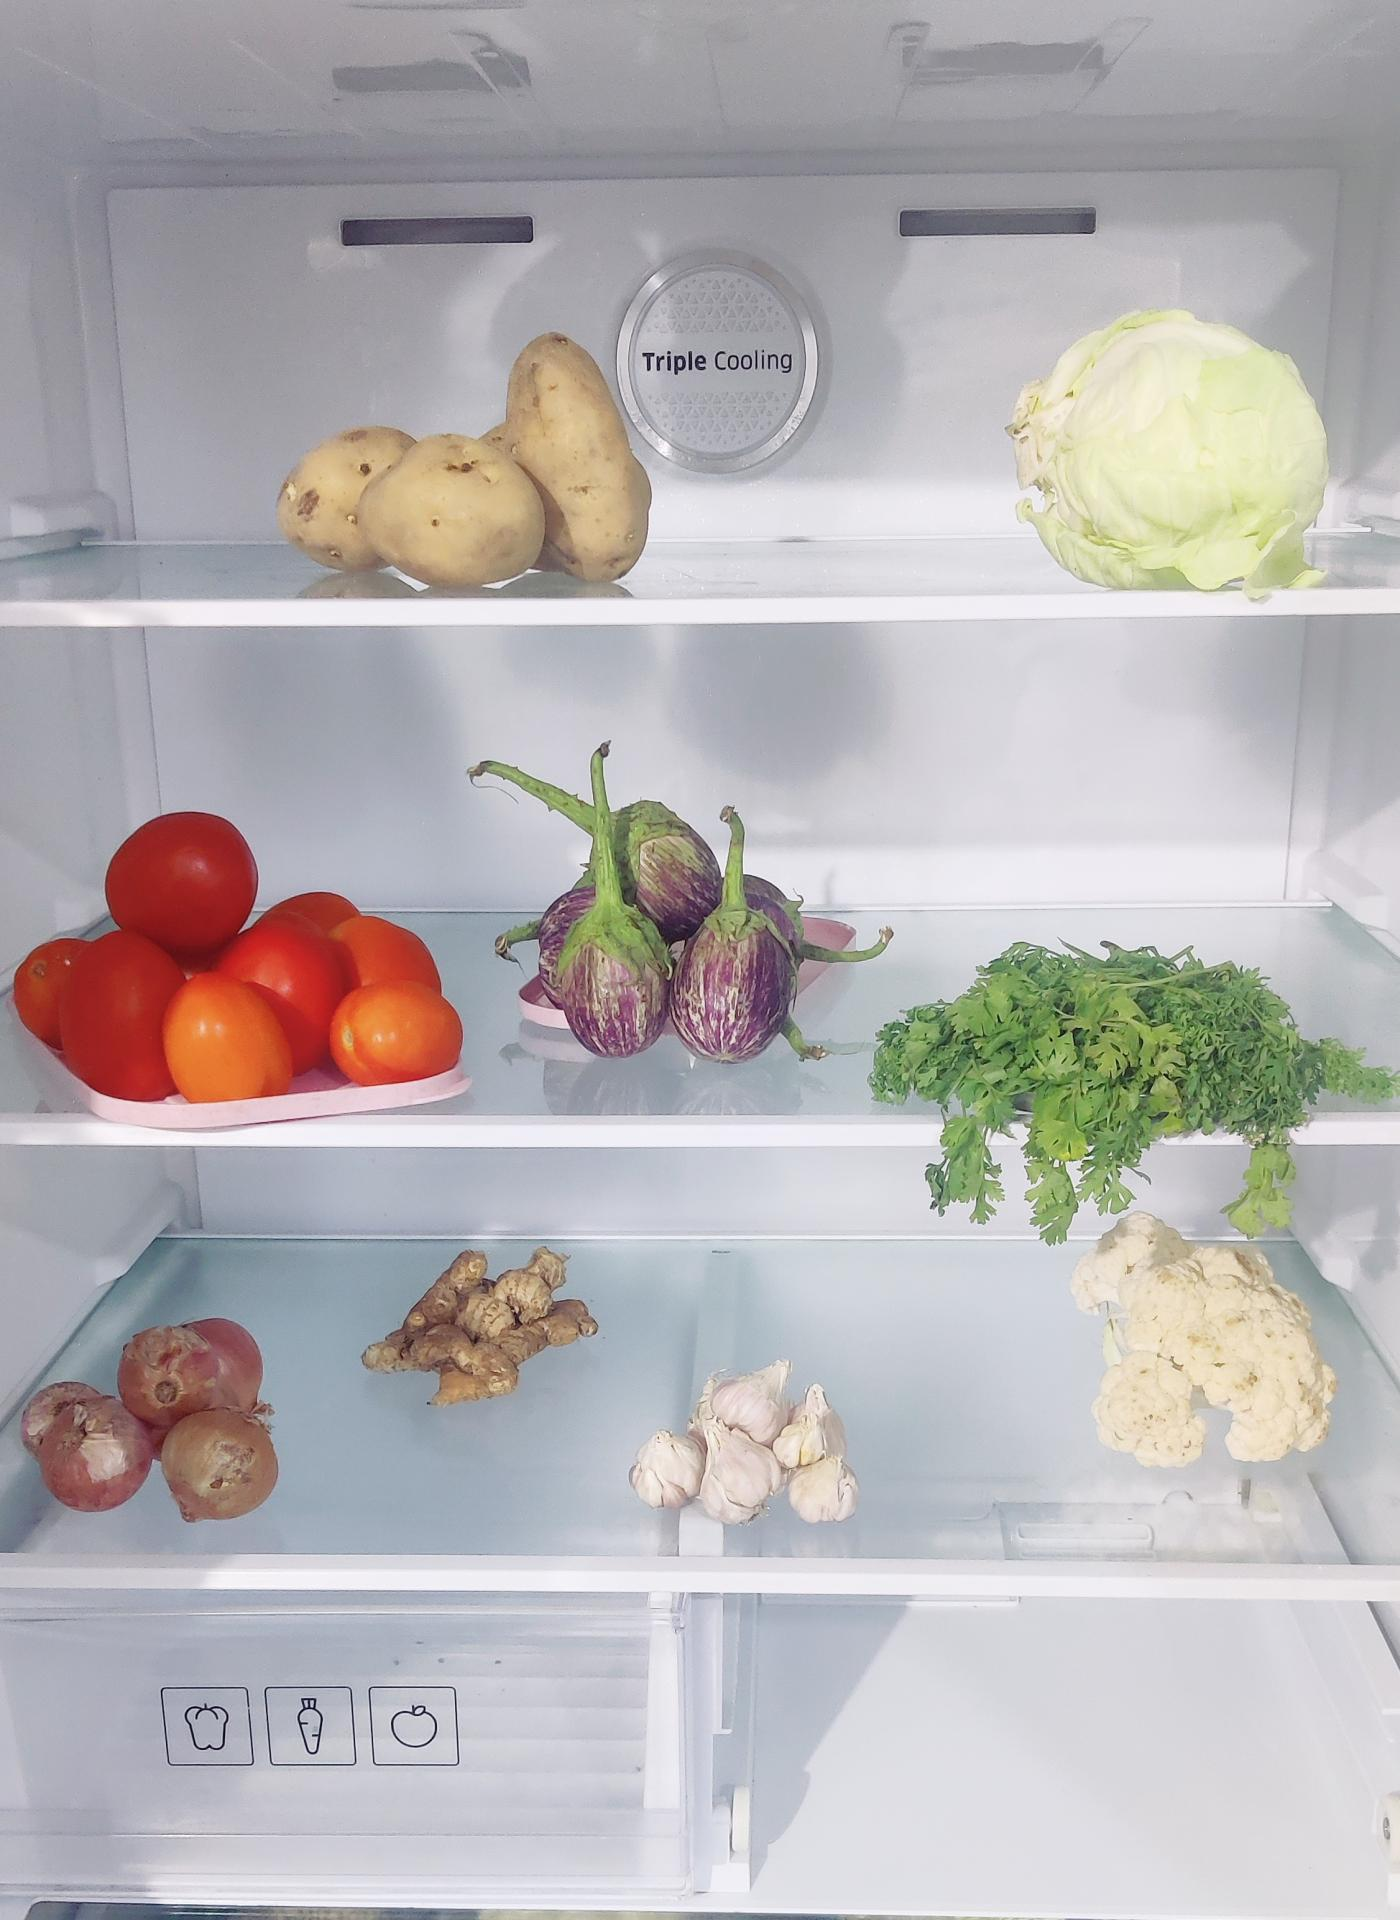brinjal: (488, 730, 798, 1078)
cabbage: (990, 297, 1336, 587)
cauliflower: (1053, 1230, 1331, 1479)
coriander: (892, 948, 1348, 1227)
garlic: (637, 1364, 842, 1525), (623, 1370, 842, 1520)
ginger: (376, 1243, 593, 1401)
onion: (27, 1307, 295, 1509)
potato: (288, 322, 652, 583)
tomato: (15, 789, 465, 1094)
